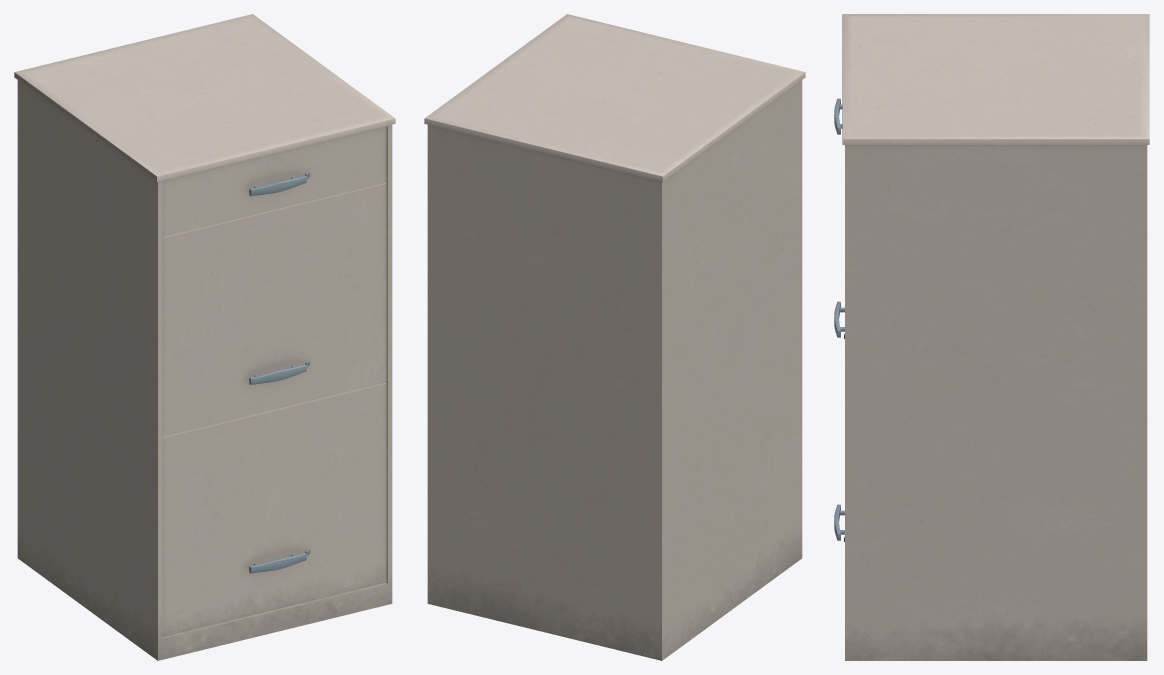
Rendered from storage.dae.
3 views of the same model, side by side, from view 1: azimuth 30°, elevation 25°; view 2: azimuth 150°, elevation 25°; view 3: azimuth 270°, elevation 25° (orthographic). The views are drawn at different scales.
Visible parts, largest first — view 1: Cube_000; view 2: Cube_000; view 3: Cube_000.
Boxes of the visible parts, x1=… form: Cube_000: x1=14, y1=14, x2=395, y2=660; Cube_000: x1=424, y1=14, x2=805, y2=660; Cube_000: x1=834, y1=14, x2=1149, y2=660.
Bounding box in the file's own units: 0.7705 × 1.5 × 0.82.
Materials: 1 (1 with a texture image).
